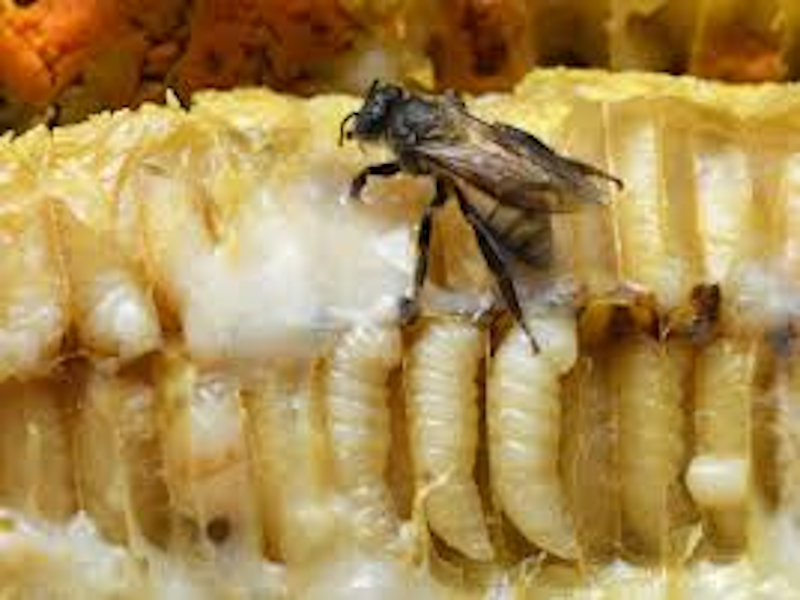abeja: (339, 49, 626, 304)
